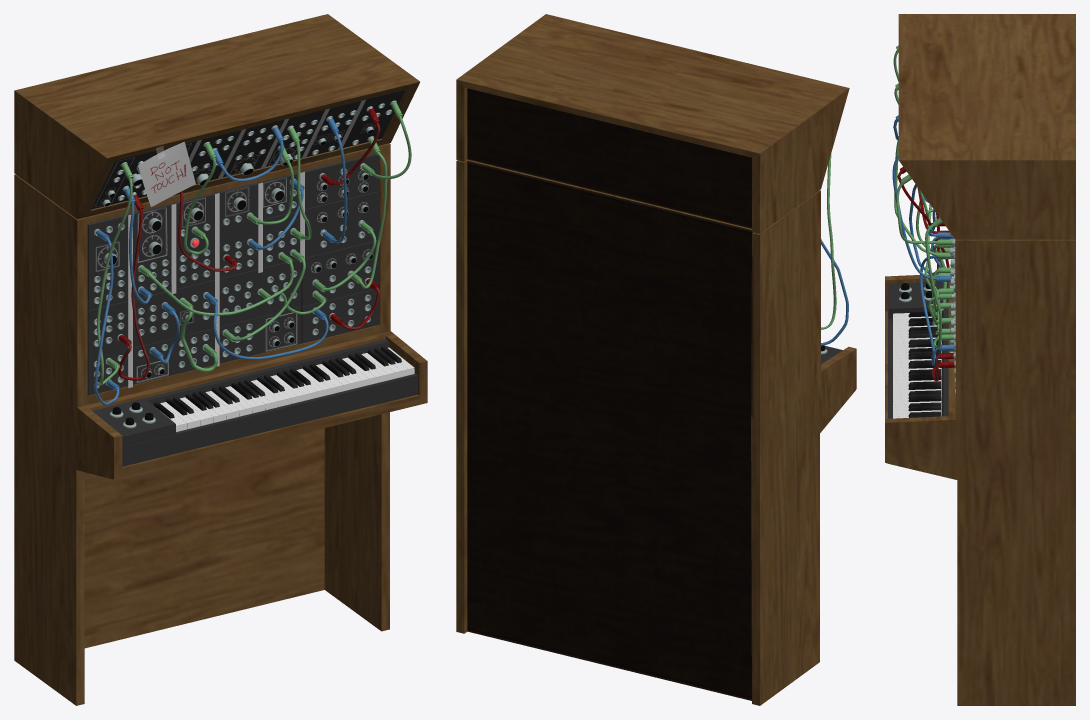
Rendered from garys_synthesizer.glb.
3 views of the same model, side by side, from view 1: azimuth 30°, elevation 25°; view 2: azimuth 150°, elevation 25°; view 3: azimuth 270°, elevation 25° (orthographic). The views are drawn at different scales.
Visible parts, largest first — view 1: Frame, Brett, Frame_top, Jack_inngang, Green, White_keys, Blue, Black_keys, tape, Buttons, Red, Note; view 2: Frame; view 3: Frame, Green, Black_keys, White_keys, Blue, Red, Buttons, Knobs_buttom.
Boxes of the visible parts, box(x1,y1,x2,y2) form: Frame: box(14, 14, 427, 705); Brett: box(87, 154, 380, 395); Frame_top: box(91, 90, 405, 209); Jack_inngang: box(93, 100, 396, 388); Green: box(97, 102, 411, 385); White_keys: box(158, 347, 414, 431); Blue: box(94, 117, 347, 405); Black_keys: box(153, 345, 401, 418); tape: box(128, 100, 365, 388); Buttons: box(103, 126, 373, 378); Red: box(118, 107, 380, 380); Note: box(138, 142, 195, 206); Frame: box(456, 14, 856, 705); Frame: box(885, 14, 1075, 705); Green: box(893, 45, 954, 348); Black_keys: box(908, 311, 941, 417); White_keys: box(893, 312, 941, 418); Blue: box(892, 115, 954, 365); Red: box(897, 167, 954, 381); Buttons: box(950, 232, 955, 352); Knobs_buttom: box(899, 282, 936, 302).
Size of the model in its own units: 9.35 by 15.96 by 5.06.
4 materials, 4 textured.
